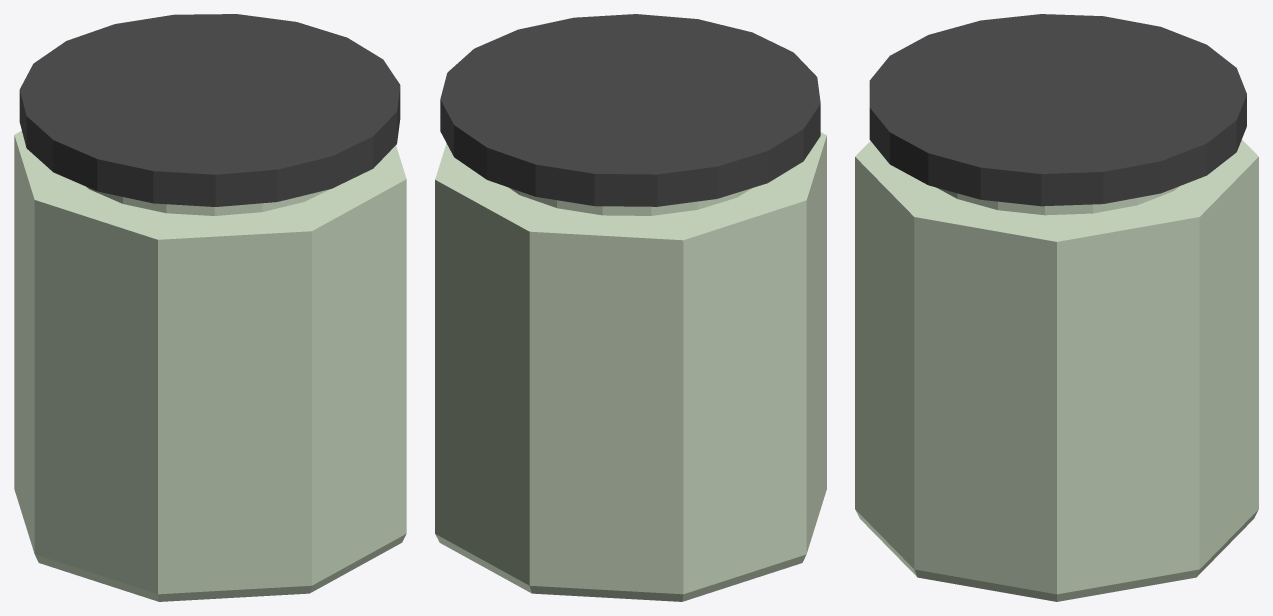
File: honey.fbx
3 renders of one model, left to right at view 1: azimuth 30°, elevation 25°; view 2: azimuth 150°, elevation 25°; view 3: azimuth 270°, elevation 25°, orthographic.
Visible parts, largest first — view 1: Cylinder, Cylinder.002; view 2: Cylinder, Cylinder.002; view 3: Cylinder, Cylinder.002.
Boxes of the visible parts, x1,y1,x2,y2 form: Cylinder: (14, 130, 406, 601); Cylinder.002: (19, 14, 400, 215); Cylinder: (435, 132, 826, 601); Cylinder.002: (440, 14, 820, 215); Cylinder: (855, 139, 1258, 601); Cylinder.002: (869, 14, 1246, 215).
Size of the model in its own units: 55.77 by 65.31 by 55.77.
